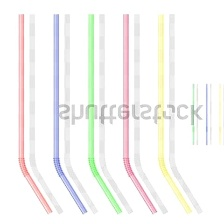drinking_straw: (48, 10, 89, 217), (84, 11, 125, 217), (119, 11, 160, 216), (154, 11, 195, 216), (14, 10, 54, 216)
